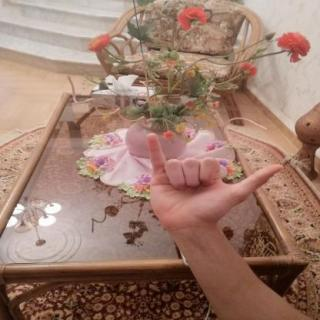YA: (134, 128, 291, 234)
